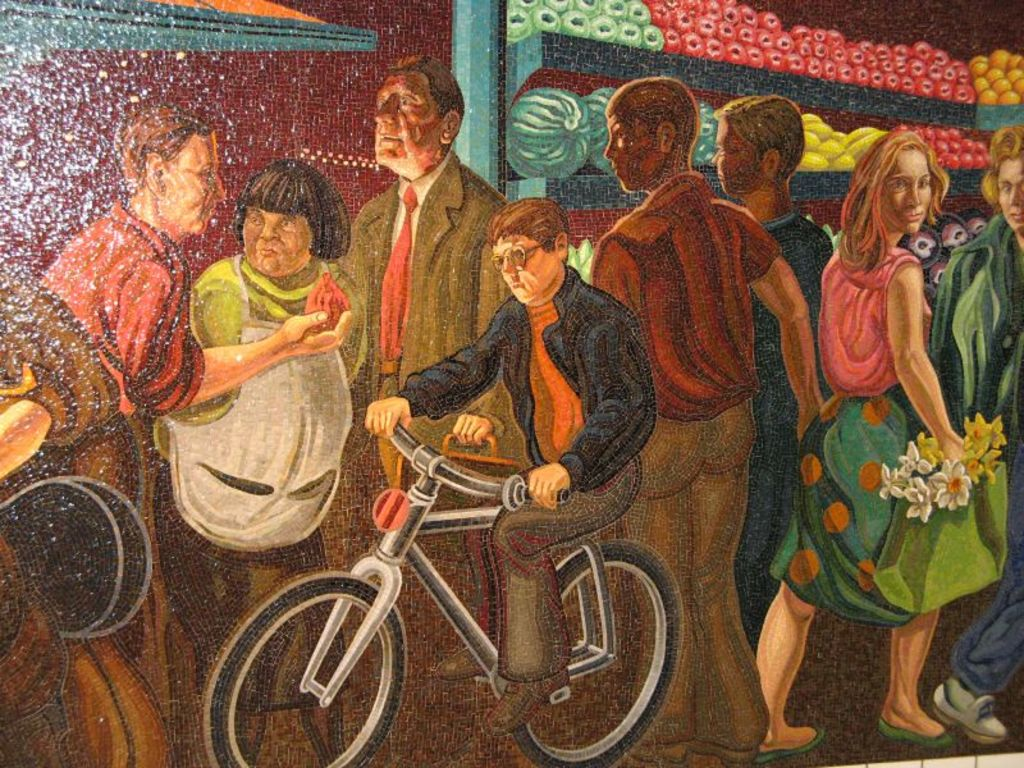Bike: (213, 417, 687, 762)
